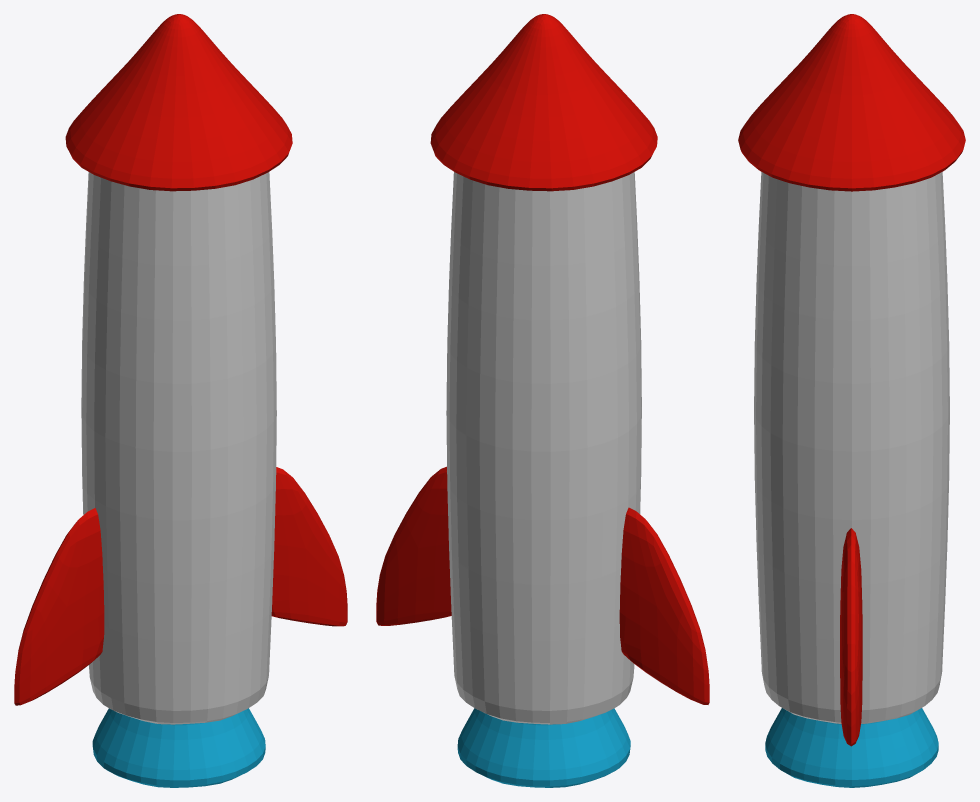
Rendered from rocket.fbx.
3 views of the same model, side by side, from view 1: azimuth 30°, elevation 25°; view 2: azimuth 150°, elevation 25°; view 3: azimuth 270°, elevation 25° (orthographic).
Visible parts, largest first — view 1: Rocket; view 2: Rocket; view 3: Rocket.
Boxes of the visible parts, <box> form: Rocket: <box>14,14,347,787</box>; Rocket: <box>376,14,709,787</box>; Rocket: <box>738,14,965,787</box>.
Size of the model in its own units: 391 by 835 by 232.
